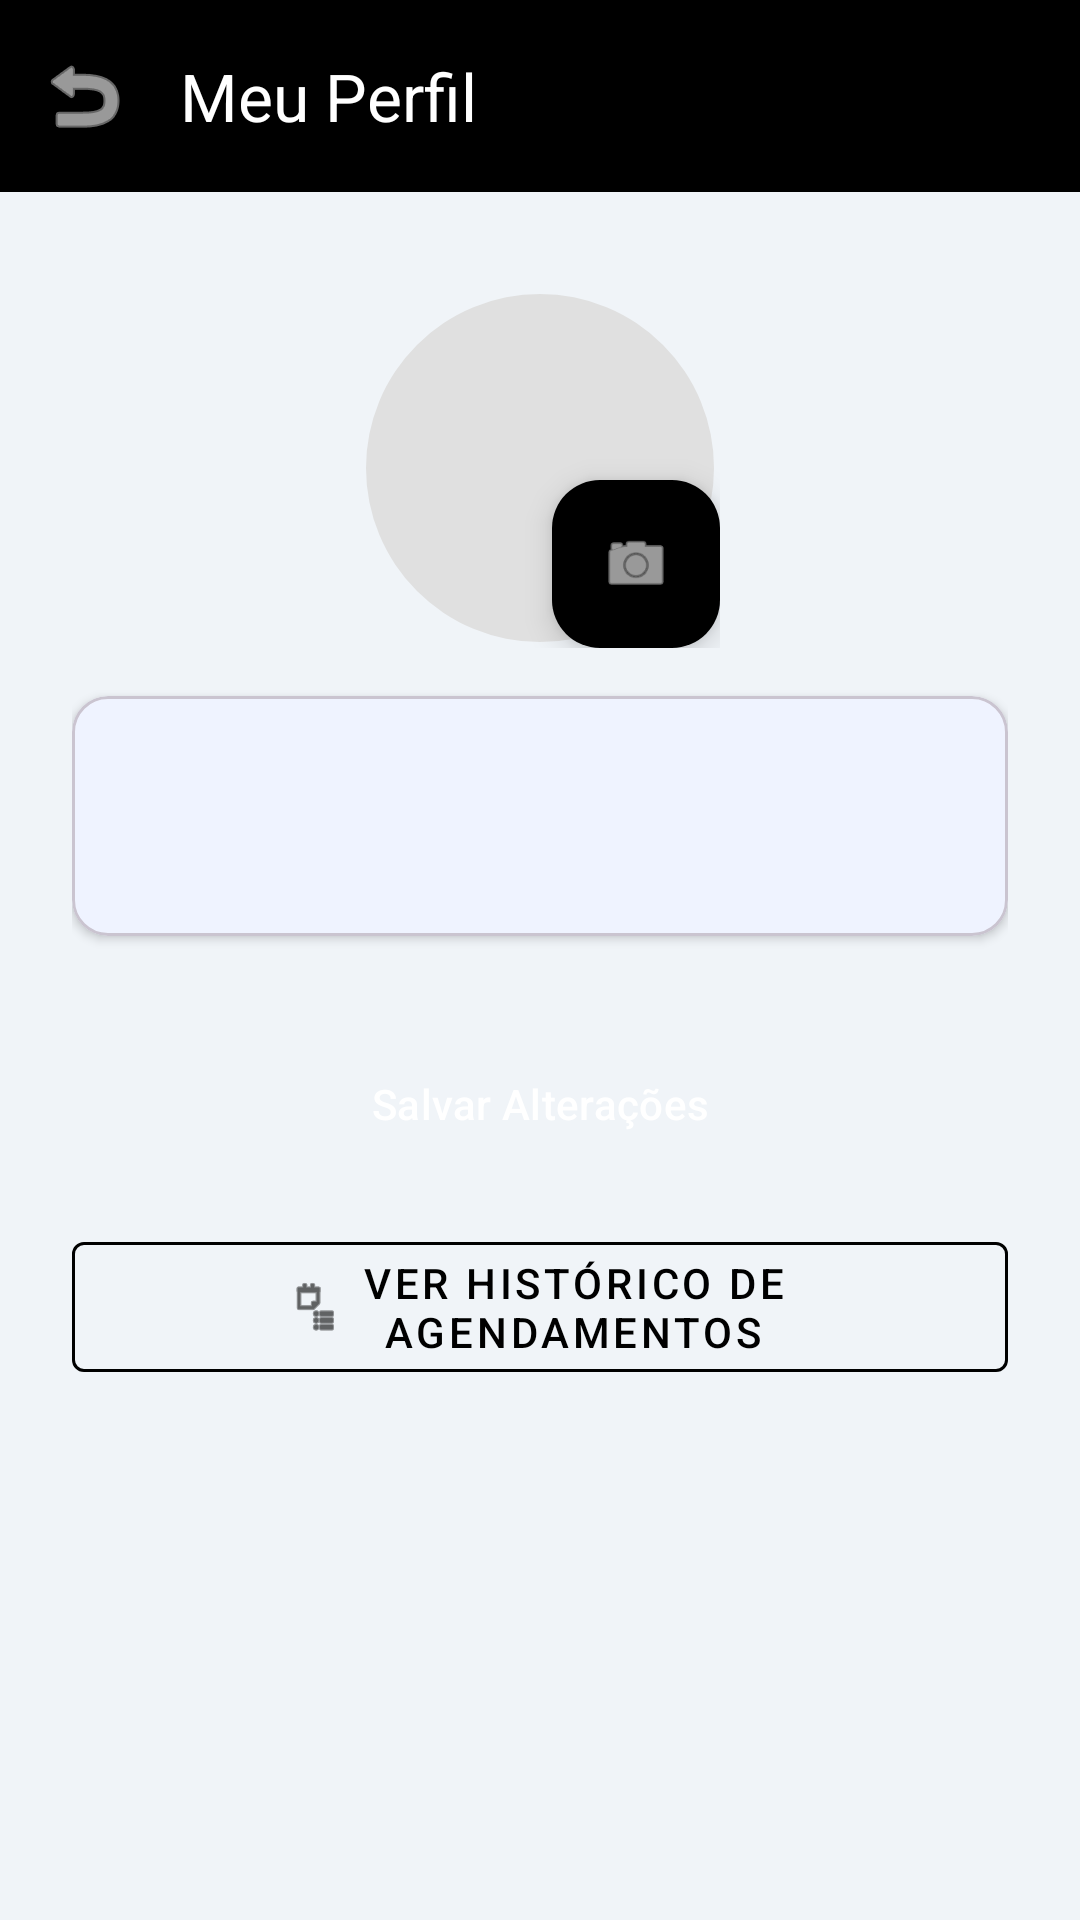

Named icons in this screenshot (1080×1920) and their centers, [x,y]:
camera: [636,564]
